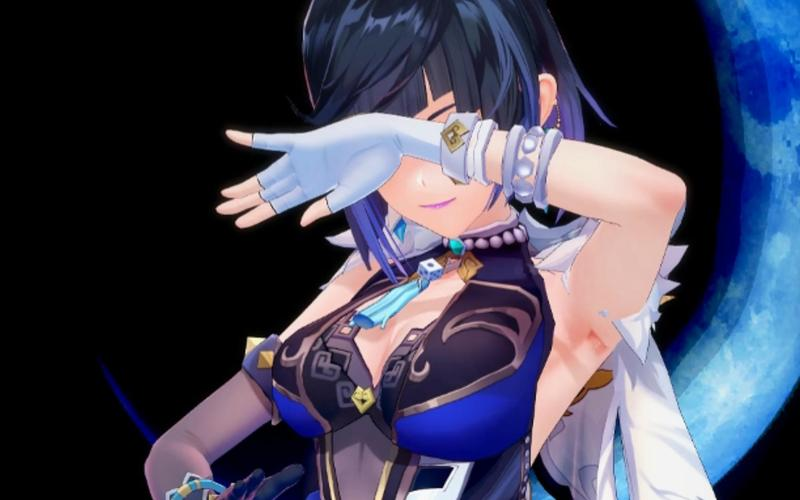夜兰: (136, 1, 703, 500)
